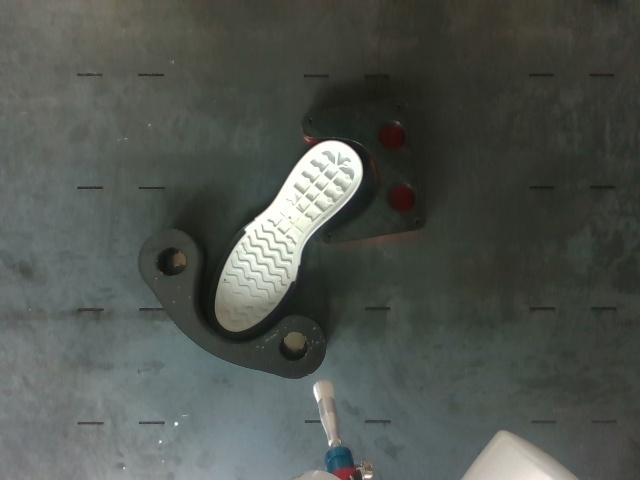shoes: (211, 142, 363, 337)
